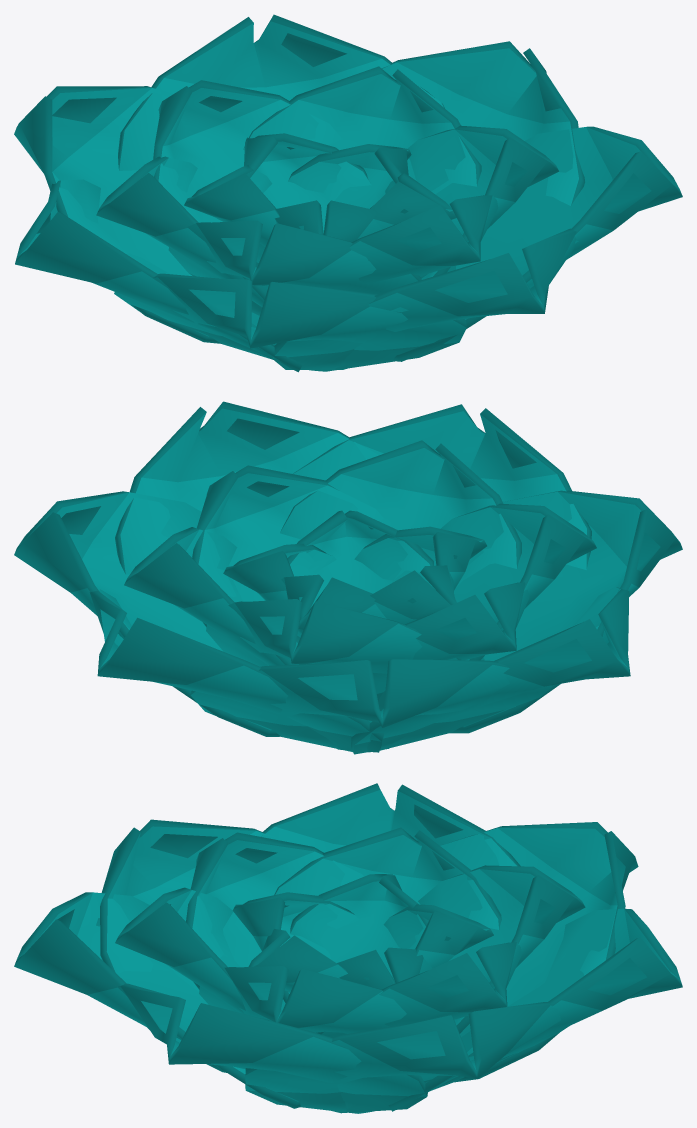
The model's file is garden-rose-bloom-head-1-069494.glb.
3 renders of one model, top to bottom at view 1: azimuth 30°, elevation 25°; view 2: azimuth 150°, elevation 25°; view 3: azimuth 270°, elevation 25°, orthographic. The views are drawn at different scales.
Parts seen in each view (by area): view 1: rose-bloom-head-1-069494; view 2: rose-bloom-head-1-069494; view 3: rose-bloom-head-1-069494.
Boxes of the visible parts, x1,y1,x2,y2 form: rose-bloom-head-1-069494: [14, 14, 682, 372]; rose-bloom-head-1-069494: [14, 401, 682, 754]; rose-bloom-head-1-069494: [14, 783, 682, 1113].
Size of the model in its own units: 0.1104 by 0.0397 by 0.1138.
